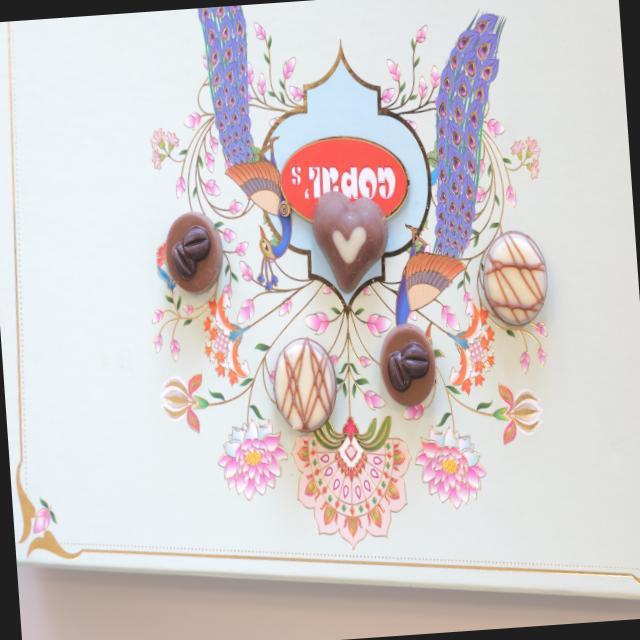Arabia: (376, 320, 437, 409), (163, 208, 223, 298)
Creme_brulee: (479, 228, 551, 328), (268, 334, 338, 434)
Passion_au_lait: (308, 187, 391, 297)
